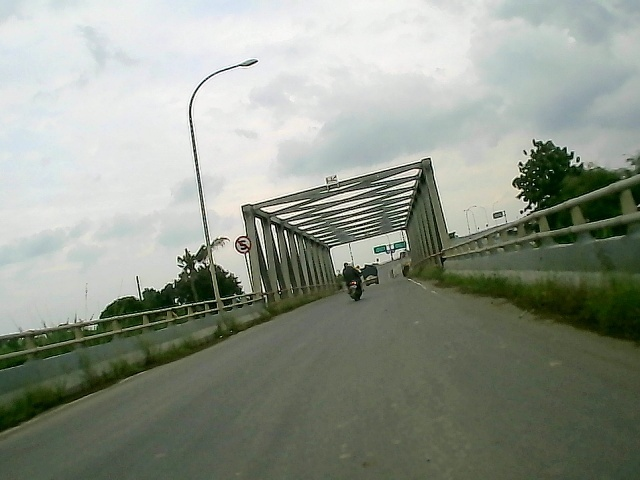Dilarang berhenti: (233, 234, 252, 256)
